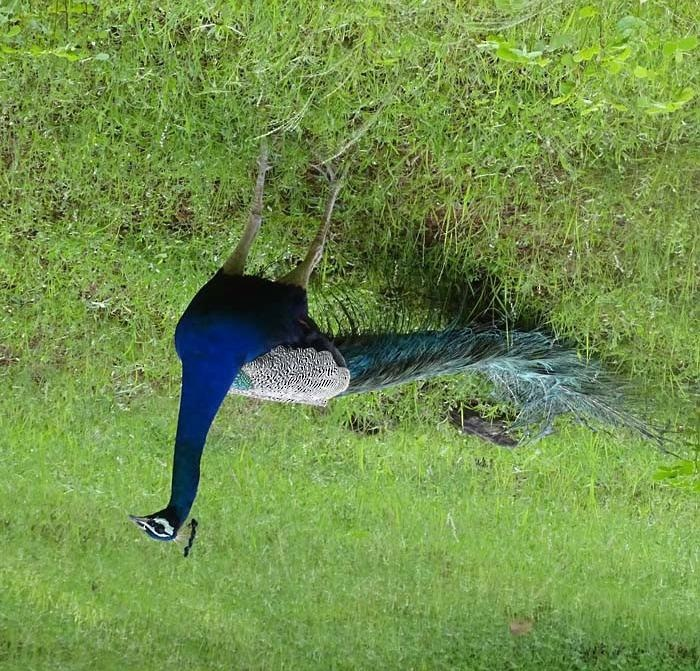peacock: (131, 185, 635, 555)
